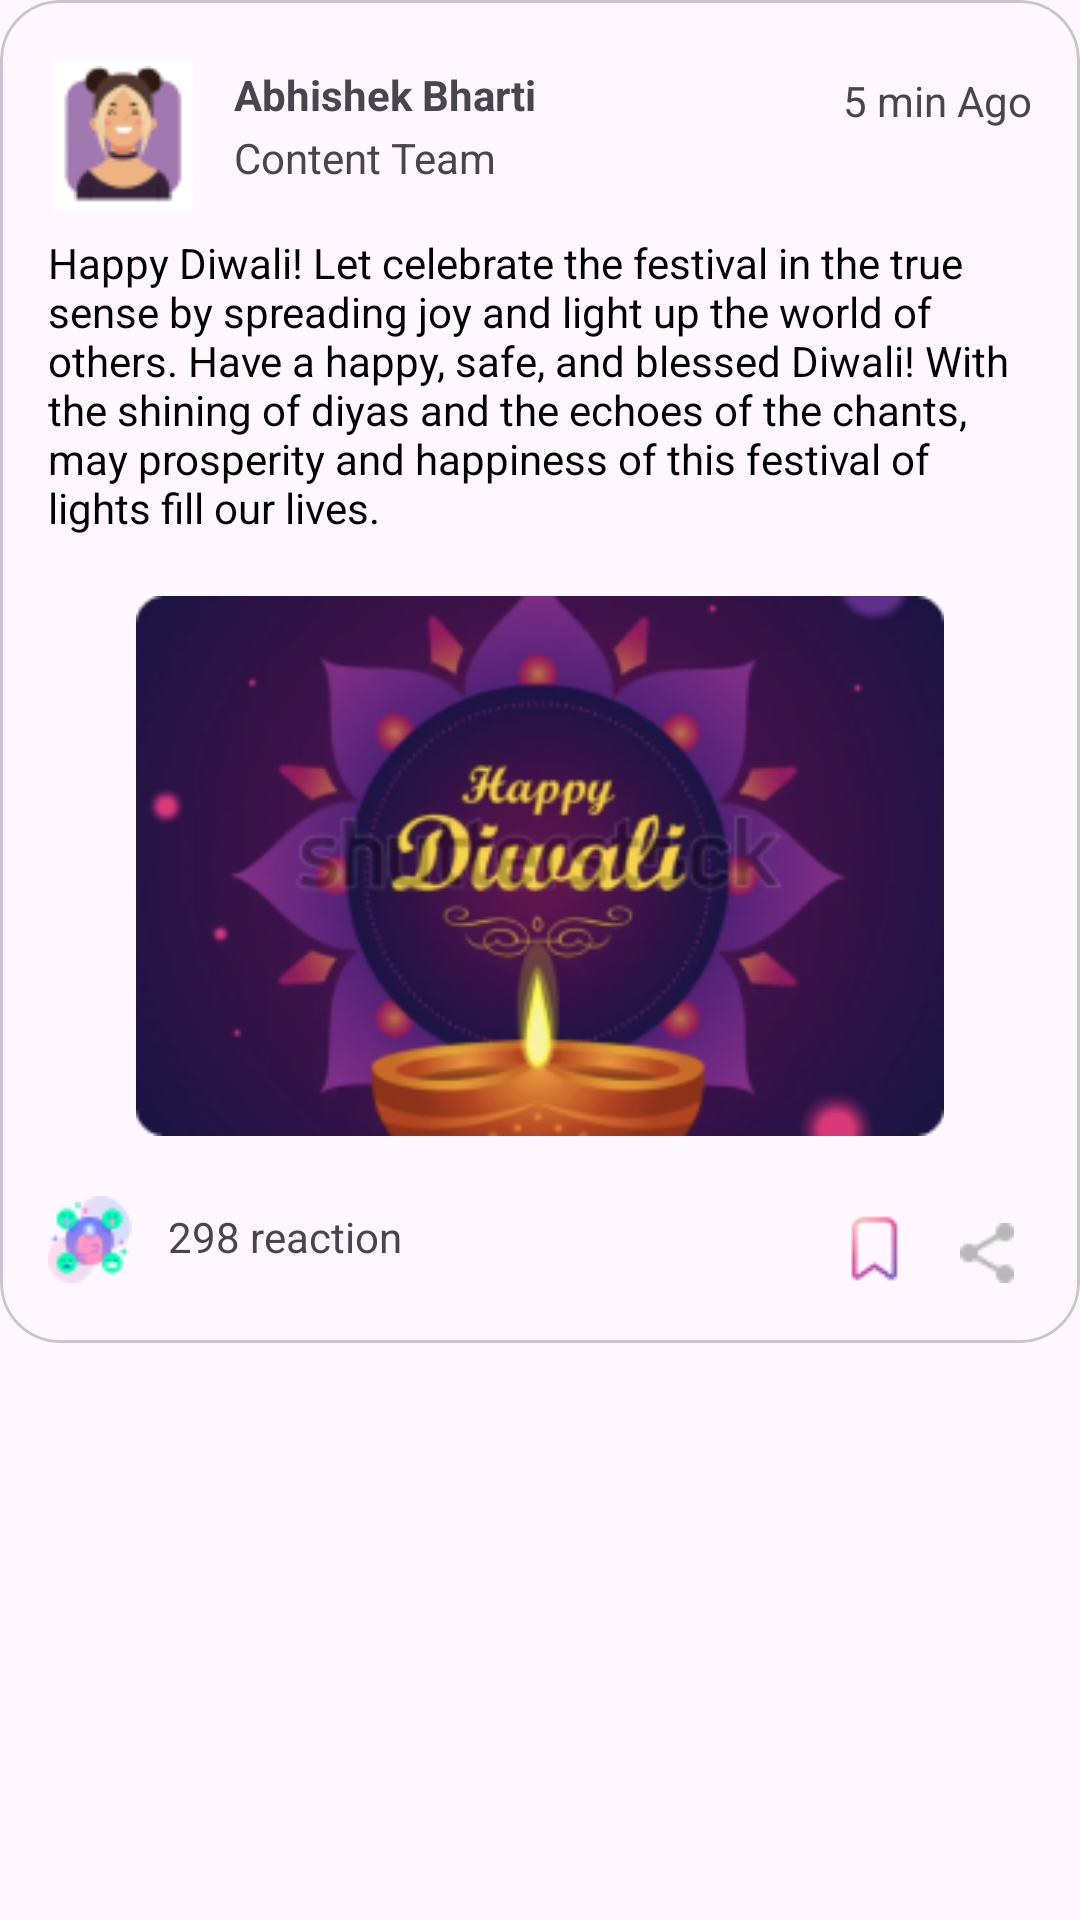

Icons on this 1080 × 1920 Android screen, each with its box as box=[x1, y1, x2, y2]:
bookmark: box=[851, 1216, 898, 1281]
reactions: box=[48, 1196, 132, 1283]
share: box=[960, 1223, 1014, 1283]
